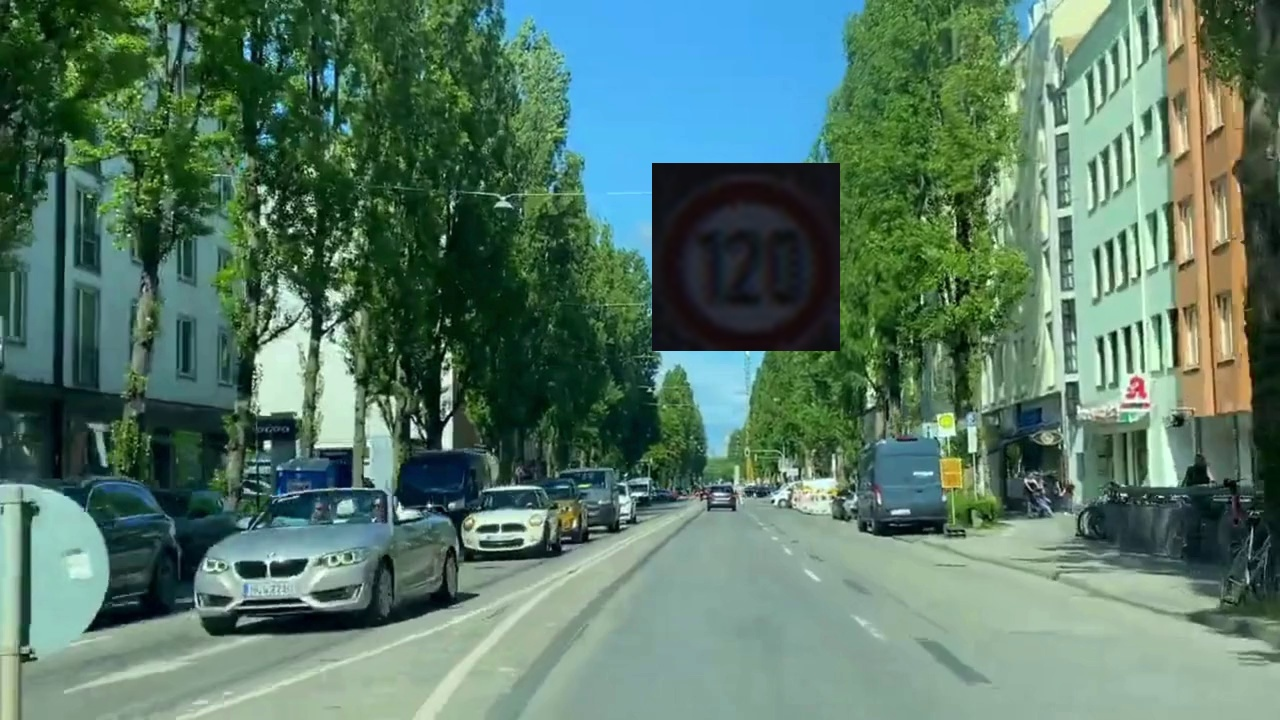Speed 120: (652, 163, 840, 351)
